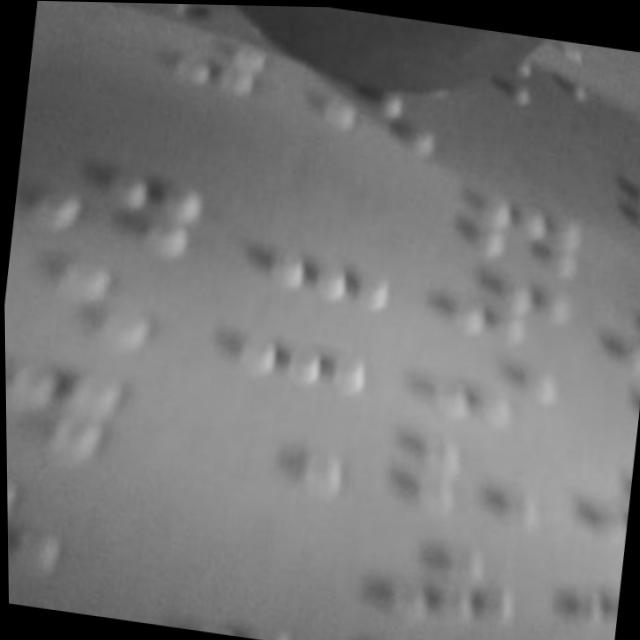braiile: (18, 154, 205, 264), (365, 530, 531, 637), (3, 243, 161, 354), (392, 430, 553, 532), (231, 296, 380, 396), (416, 342, 568, 440), (251, 210, 400, 309), (212, 407, 359, 497), (435, 263, 585, 350), (449, 190, 594, 278)
